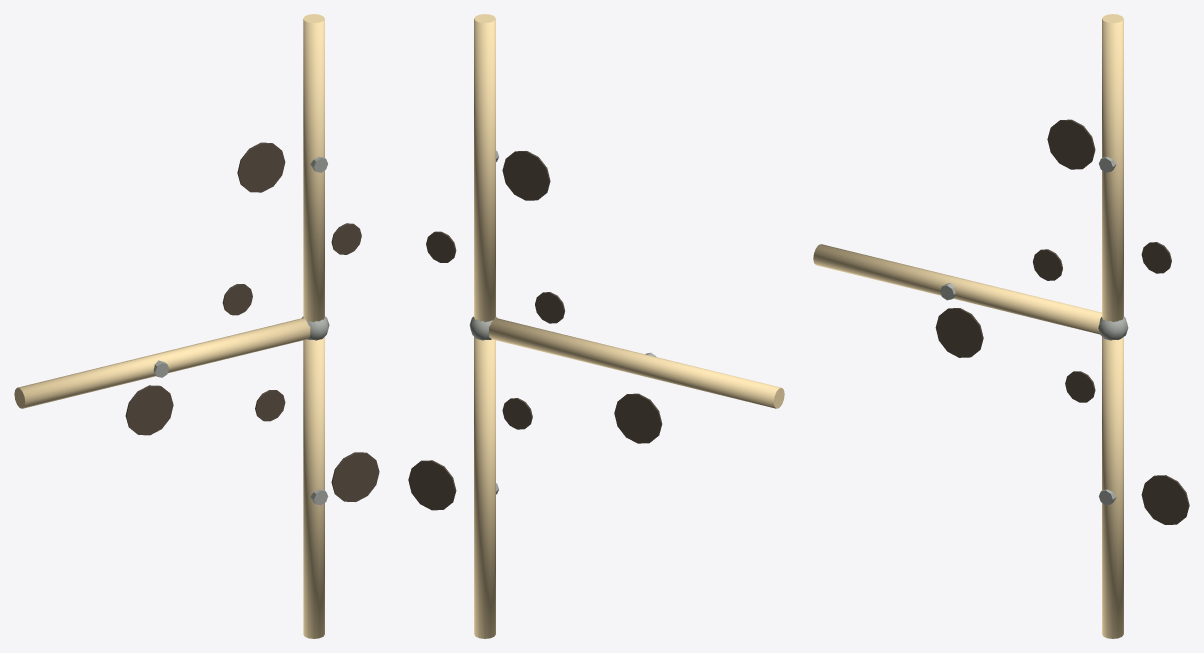
The model's file is drip_m13.obj.
3 views of the same model, side by side, from view 1: azimuth 30°, elevation 25°; view 2: azimuth 150°, elevation 25°; view 3: azimuth 330°, elevation 25° (orthographic).
Parts seen in each view (by area): view 1: hose8, hose4, hose1, wet8_0, wet4_0, wet1_0, wet8_1, wet1_1, wet4_1; view 2: hose8, hose4, hose1, wet8_0, wet1_0, wet4_0, wet1_1, wet4_1, wet8_1; view 3: hose4, hose8, hose1, wet4_0, wet8_0, wet1_0, wet1_1, wet4_1, wet8_1, tee.
Boxes of the visible parts, box(x1,y1,x2,y2) form: hose8: box(14, 318, 310, 408); hose4: box(303, 14, 324, 321); hose1: box(303, 337, 324, 638); wet8_0: box(125, 385, 173, 435); wet4_0: box(237, 142, 285, 192); wet1_0: box(331, 452, 379, 501); wet8_1: box(222, 284, 252, 315); wet1_1: box(255, 390, 285, 421); wet4_1: box(331, 223, 361, 254); hose8: box(488, 318, 784, 408); hose4: box(474, 14, 495, 321); hose1: box(474, 337, 495, 638); wet8_0: box(614, 393, 662, 443); wet1_0: box(408, 460, 456, 510); wet4_0: box(502, 151, 550, 200); wet1_1: box(502, 398, 532, 429); wet4_1: box(426, 231, 456, 262); wet8_1: box(535, 292, 564, 323); hose4: box(1102, 14, 1123, 321); hose8: box(813, 244, 1101, 334); hose1: box(1102, 337, 1123, 638); wet4_0: box(1047, 119, 1095, 169); wet8_0: box(935, 308, 983, 357); wet1_0: box(1141, 475, 1189, 524); wet1_1: box(1065, 371, 1095, 402); wet4_1: box(1141, 242, 1171, 273); wet8_1: box(1033, 249, 1062, 280); tee: box(1098, 317, 1128, 340).
Bounding box in the file's own units: 0.62 × 1 × 0.0464.
Materials: 3 (3 with a texture image).
